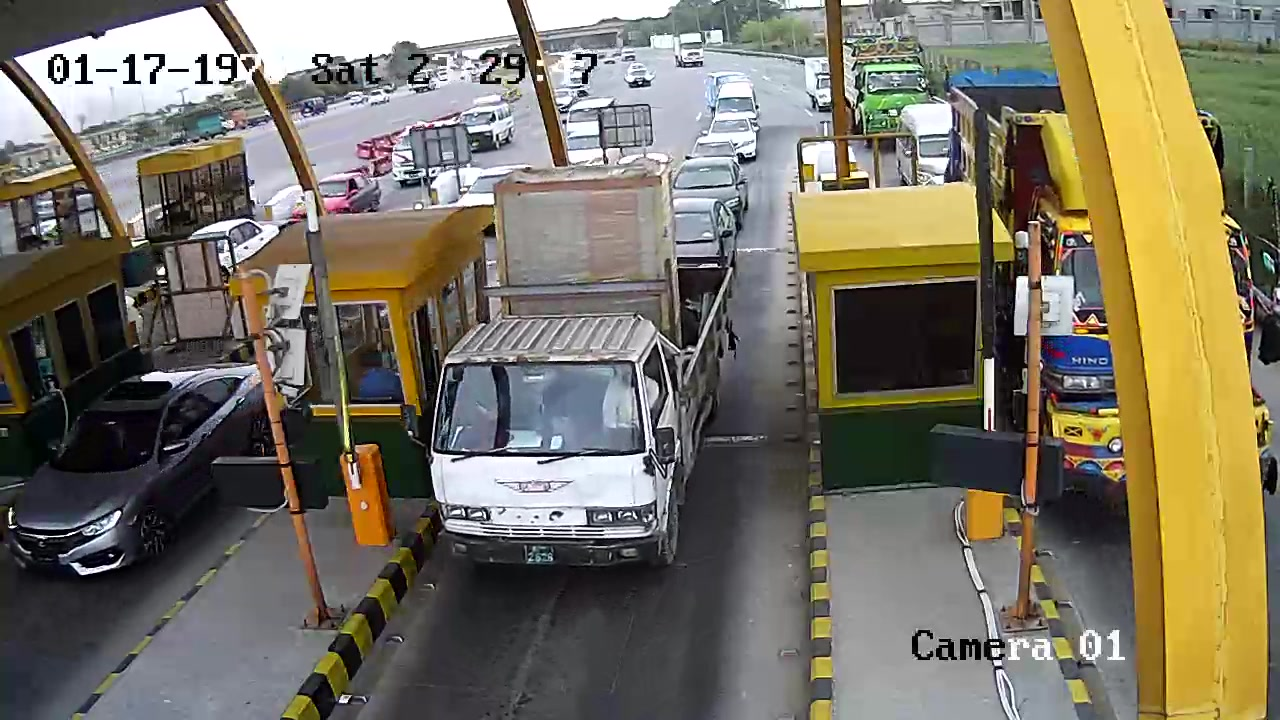F3: (416, 152, 743, 583)
